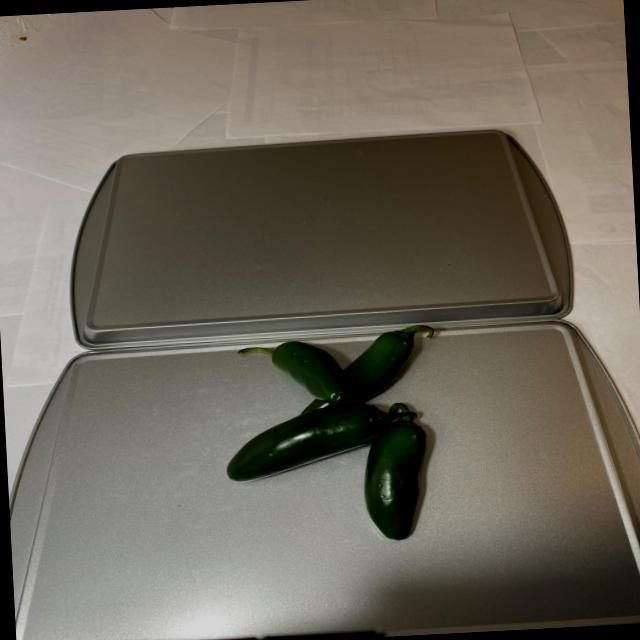chilli: (213, 318, 458, 552)
